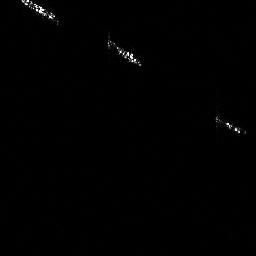ship: (104, 29, 146, 70), (17, 1, 63, 27), (212, 109, 249, 140)
